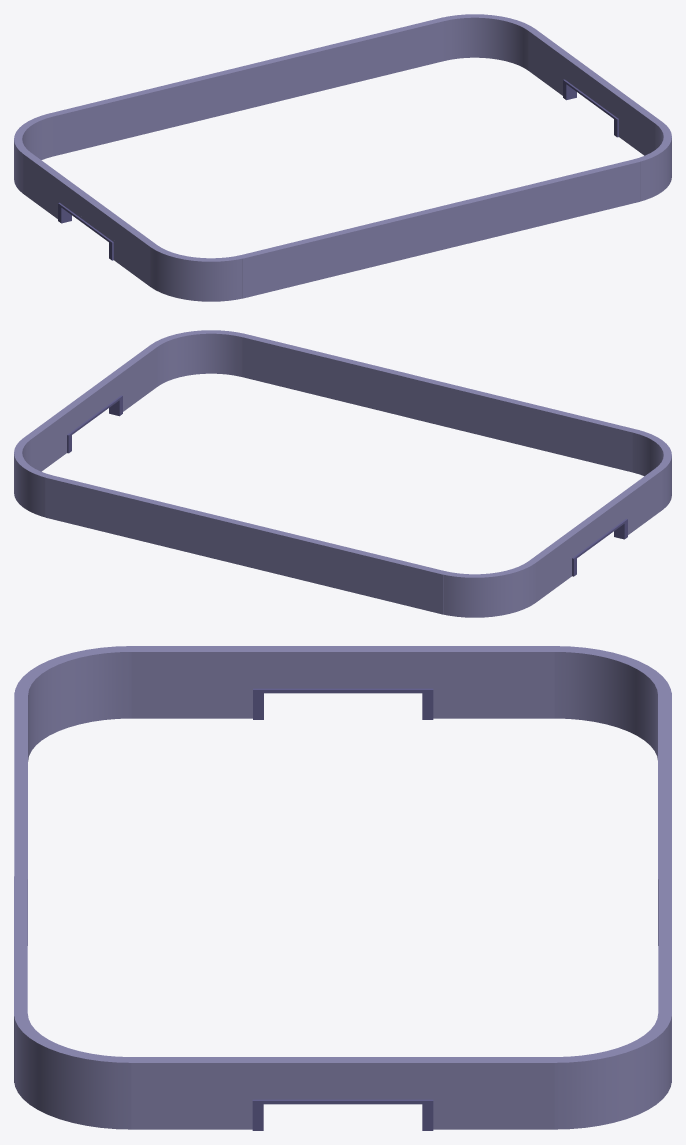
File: perimeter.fbx
3 views of the same model, one above another, from view 1: azimuth 30°, elevation 25°; view 2: azimuth 150°, elevation 25°; view 3: azimuth 270°, elevation 25° (orthographic). The views are drawn at different scales.
Parts seen in each view (by area): view 1: mergedBlocks; view 2: mergedBlocks; view 3: mergedBlocks.
Part boxes in pixels (<box>): mergedBlocks: <box>14,14,671,301</box>; mergedBlocks: <box>14,330,671,617</box>; mergedBlocks: <box>14,646,671,1130</box>.
Bounding box in the file's own units: 540 × 40 × 358.
